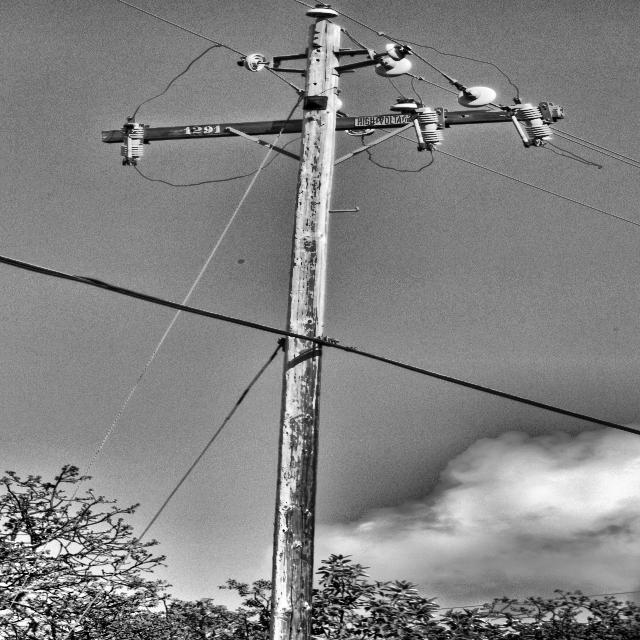poles: (73, 0, 575, 640)
